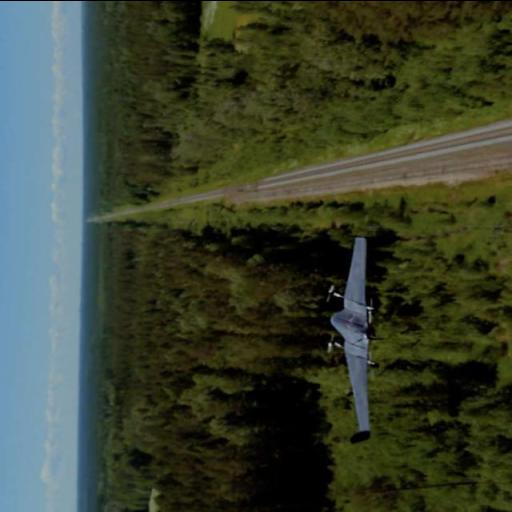uav: (321, 234, 397, 432)
